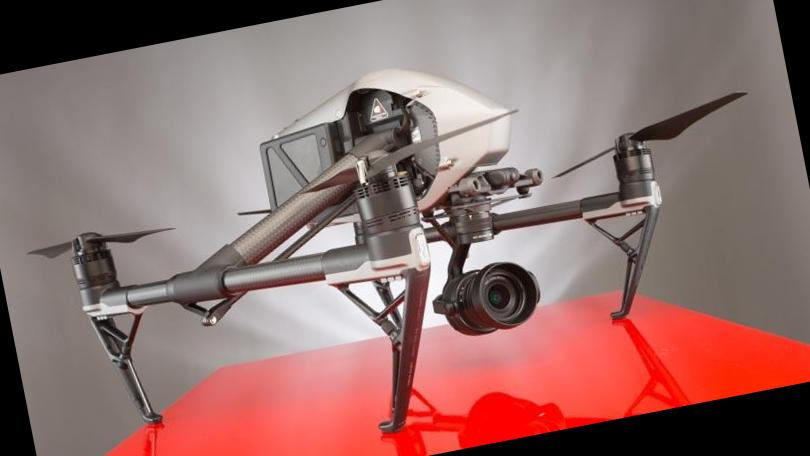drone: (3, 24, 770, 432)
